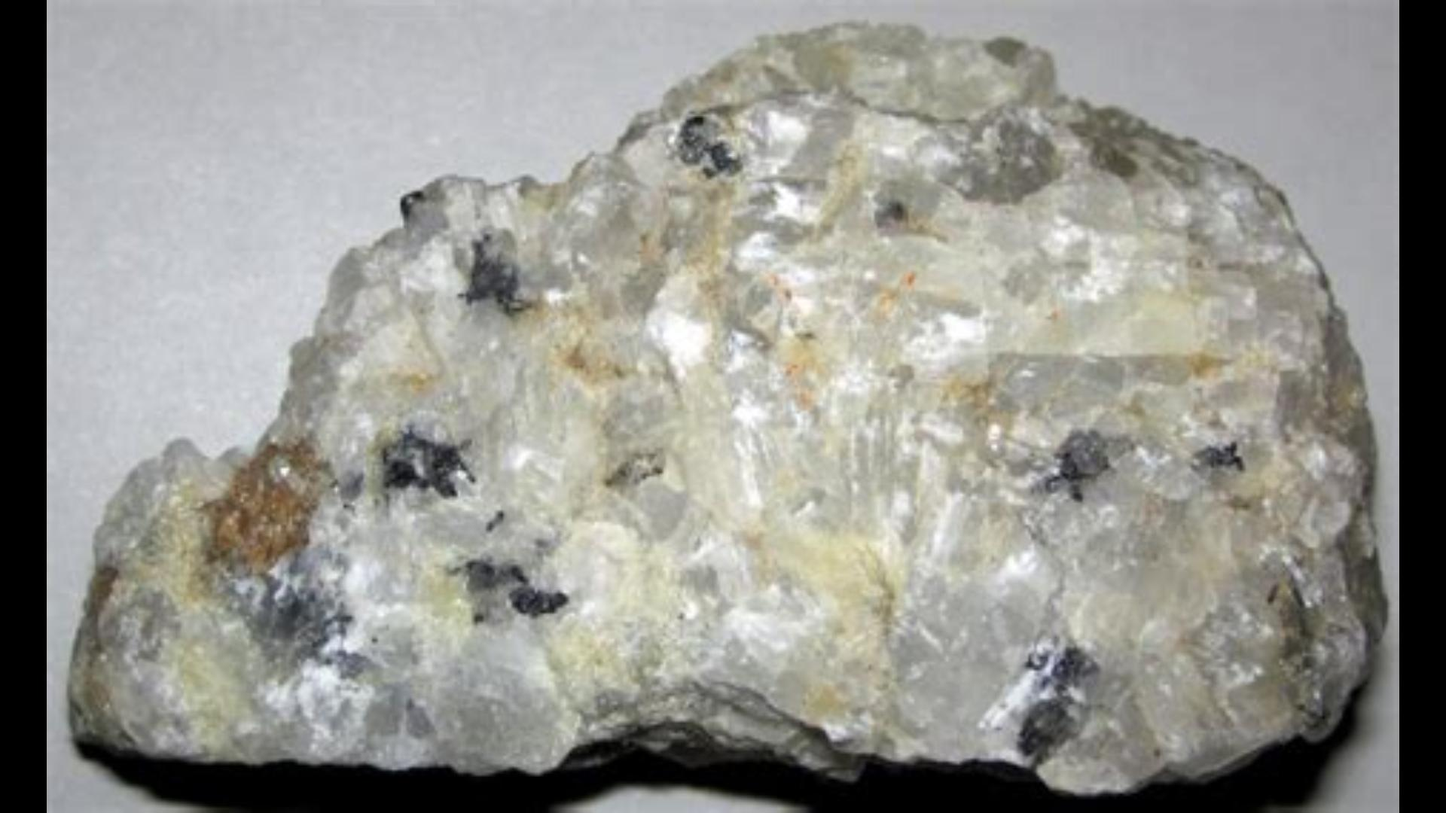rock: (72, 37, 1382, 790)
